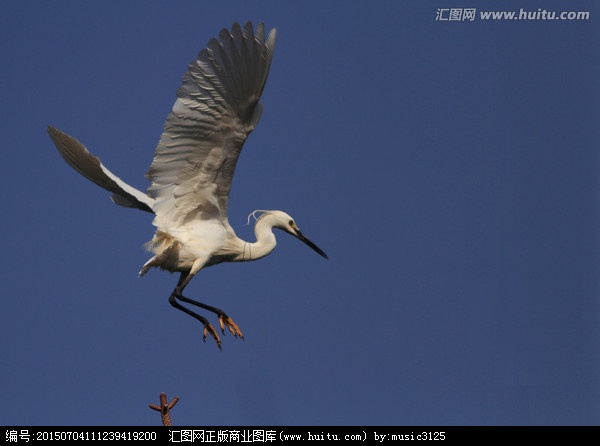bird: (46, 23, 328, 351)
